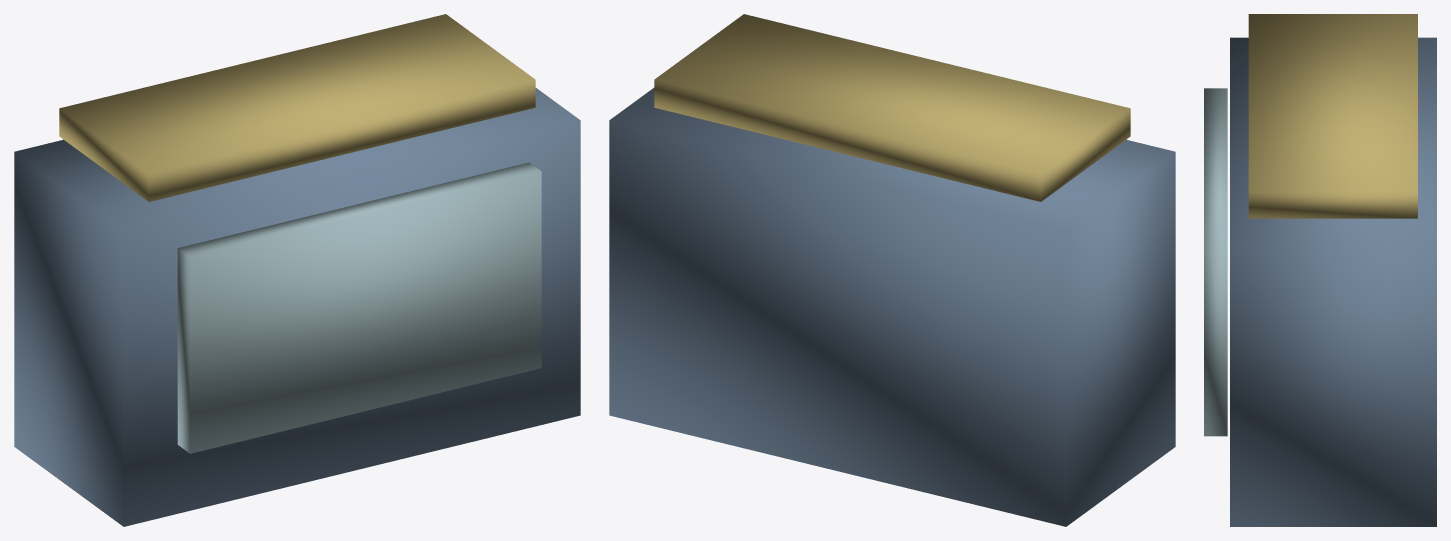
Rendered from lottery_counter_display__squat.glb.
3 views of the same model, side by side, from view 1: azimuth 30°, elevation 25°; view 2: azimuth 150°, elevation 25°; view 3: azimuth 270°, elevation 25° (orthographic). The views are drawn at different scales.
Parts seen in each view (by area): view 1: world; view 2: world; view 3: world.
Boxes of the visible parts, box(x1,y1,x2,y2) form: world: box(14, 14, 580, 526); world: box(609, 14, 1175, 526); world: box(1204, 14, 1436, 526).
Bounding box in the file's own units: 0.572 × 0.4032 × 0.2673.
